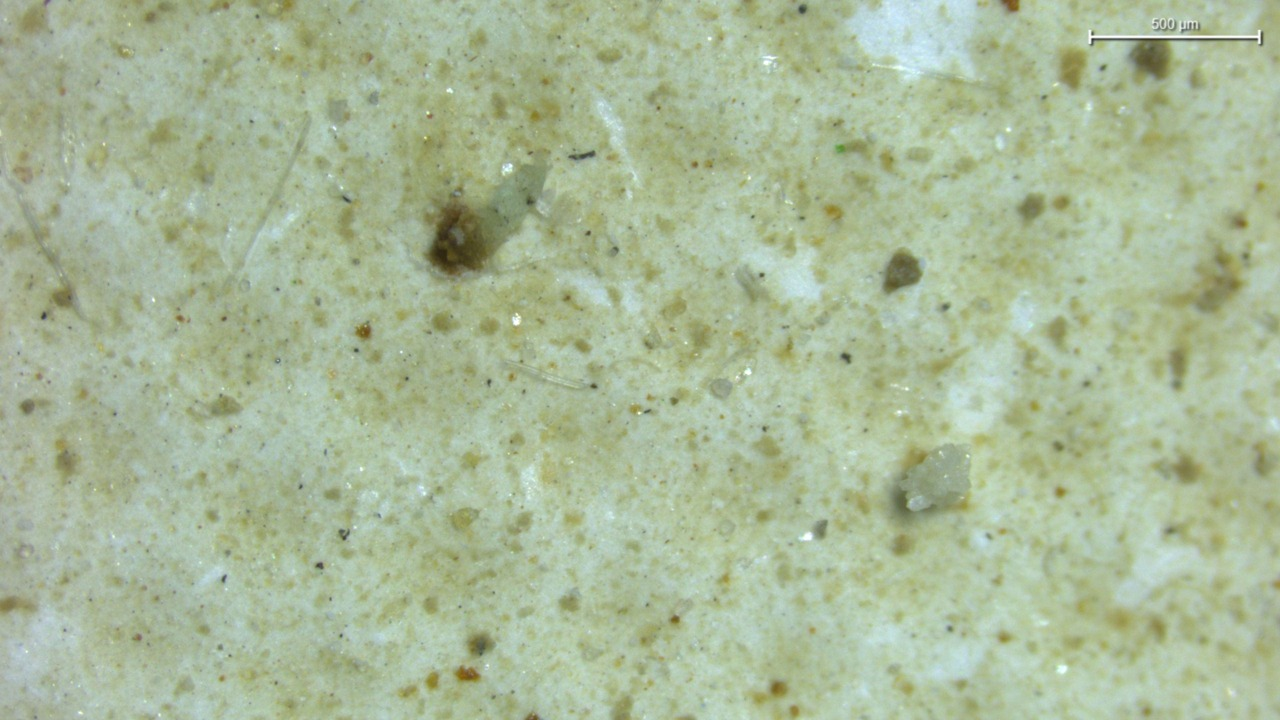microplastic_fragment: (899, 444, 970, 511)
